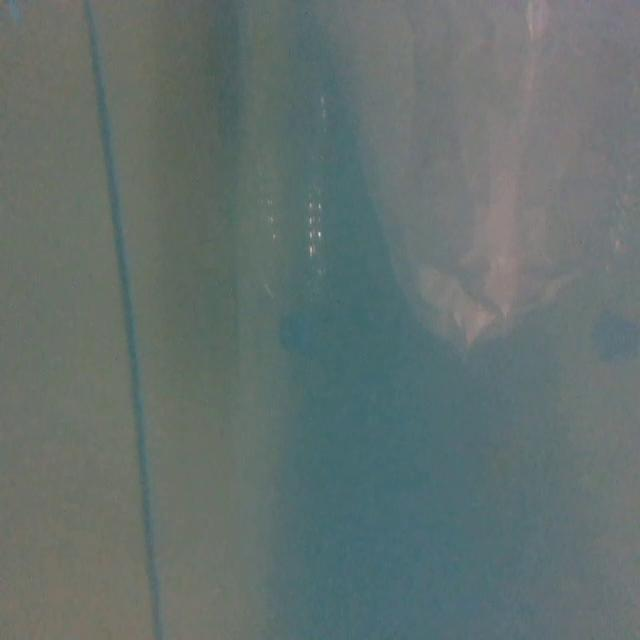plastic bags: (354, 0, 629, 362)
plastic bottle: (249, 70, 342, 359)
